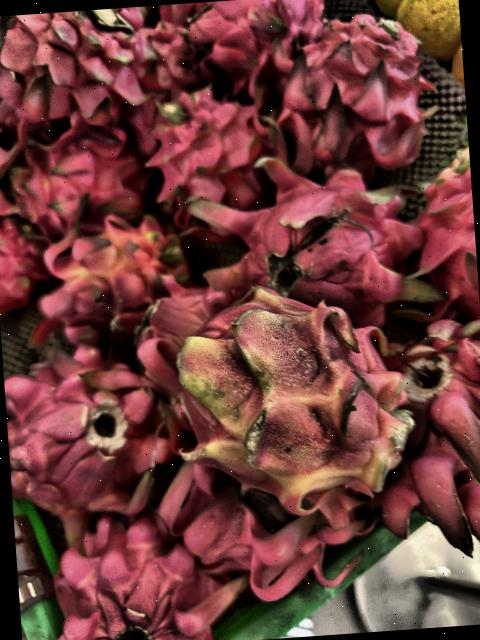buah-naga-belum-matang: (170, 291, 412, 508), (32, 196, 192, 342)
buah-naga-matang: (188, 142, 420, 333), (262, 0, 441, 175), (3, 352, 168, 530), (37, 507, 245, 640), (156, 456, 346, 586), (379, 320, 480, 562), (0, 6, 151, 120), (142, 84, 268, 220), (5, 136, 162, 229), (406, 130, 480, 327), (187, 0, 320, 90), (123, 278, 223, 368), (0, 207, 45, 303)
